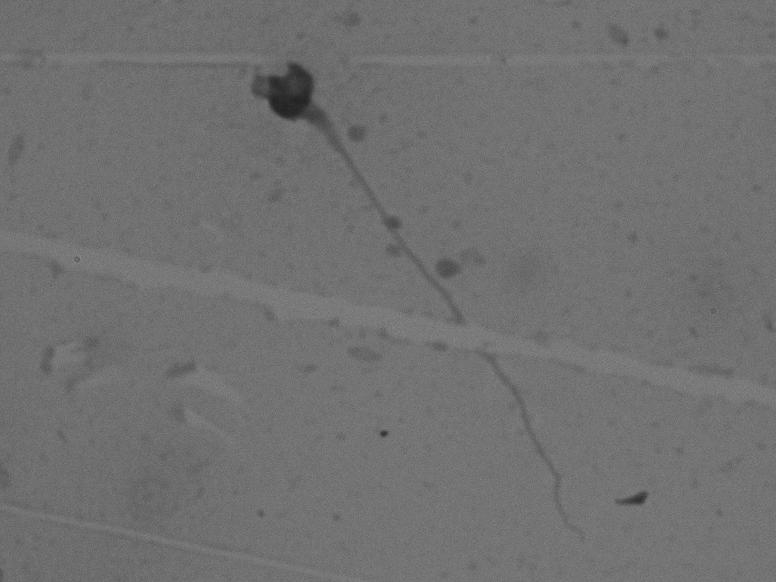Abnormal: (222, 18, 607, 541)
